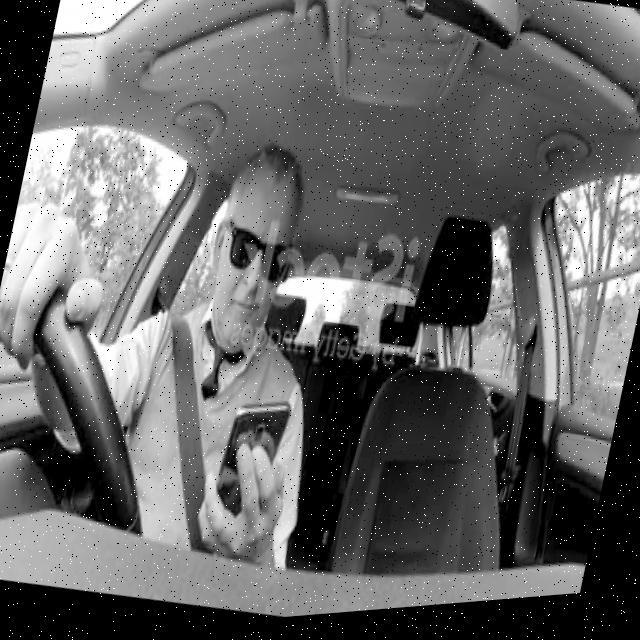PhoneCall: (206, 396, 294, 556)
